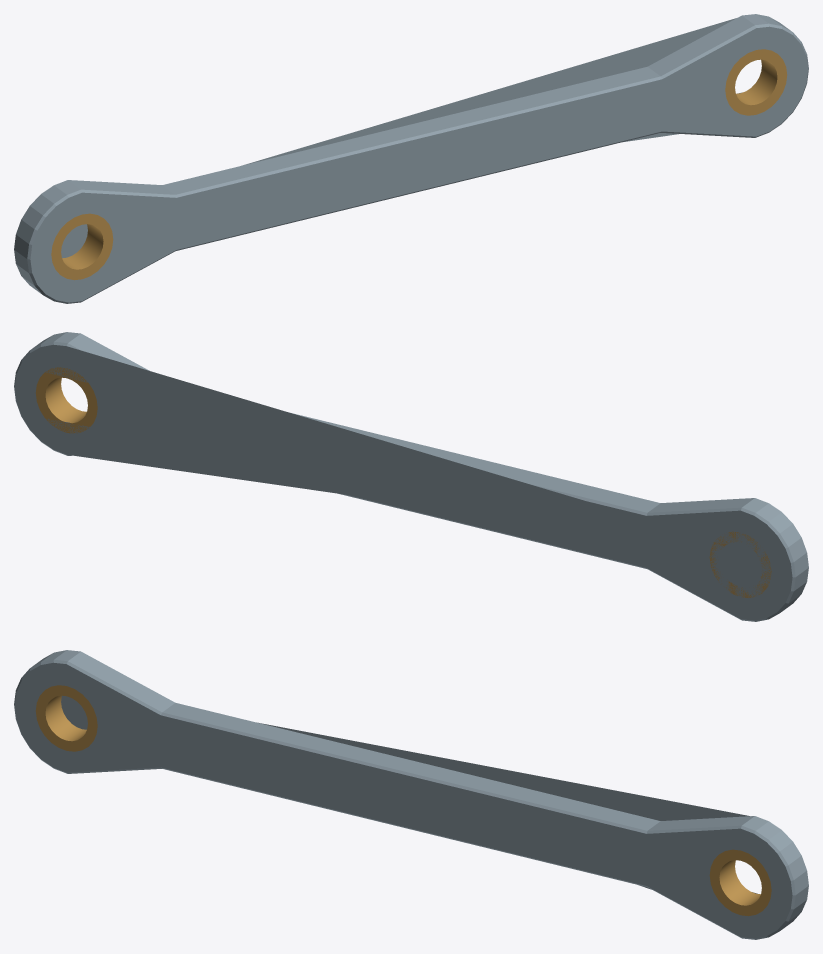
Rendered from VLAB_connecting_rod.fbx.
3 views of the same model, one above another, from view 1: azimuth 30°, elevation 25°; view 2: azimuth 150°, elevation 25°; view 3: azimuth 330°, elevation 25° (orthographic).
Visible parts, largest first — view 1: VLAB_connecting_rod_Rod_VIS, VLAB_connecting_rod_PinSockets_VIS; view 2: VLAB_connecting_rod_Rod_VIS, VLAB_connecting_rod_PinSockets_VIS; view 3: VLAB_connecting_rod_Rod_VIS, VLAB_connecting_rod_PinSockets_VIS.
Part boxes in pixels (bbox=[...]): VLAB_connecting_rod_Rod_VIS: bbox=[14, 14, 808, 303]; VLAB_connecting_rod_PinSockets_VIS: bbox=[51, 49, 787, 280]; VLAB_connecting_rod_Rod_VIS: bbox=[14, 332, 808, 621]; VLAB_connecting_rod_PinSockets_VIS: bbox=[35, 367, 771, 597]; VLAB_connecting_rod_Rod_VIS: bbox=[14, 650, 808, 939]; VLAB_connecting_rod_PinSockets_VIS: bbox=[35, 685, 771, 916].
Bounding box in the file's own units: 0.116 × 0.016 × 0.004.
